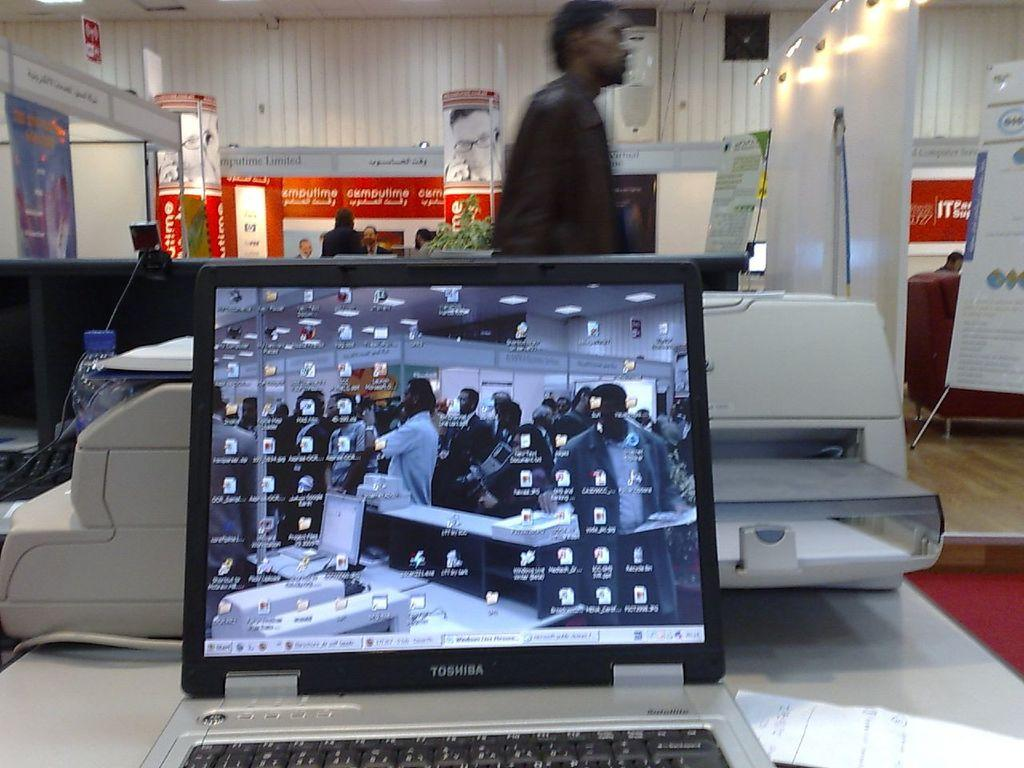Laptop: (124, 250, 749, 768)
